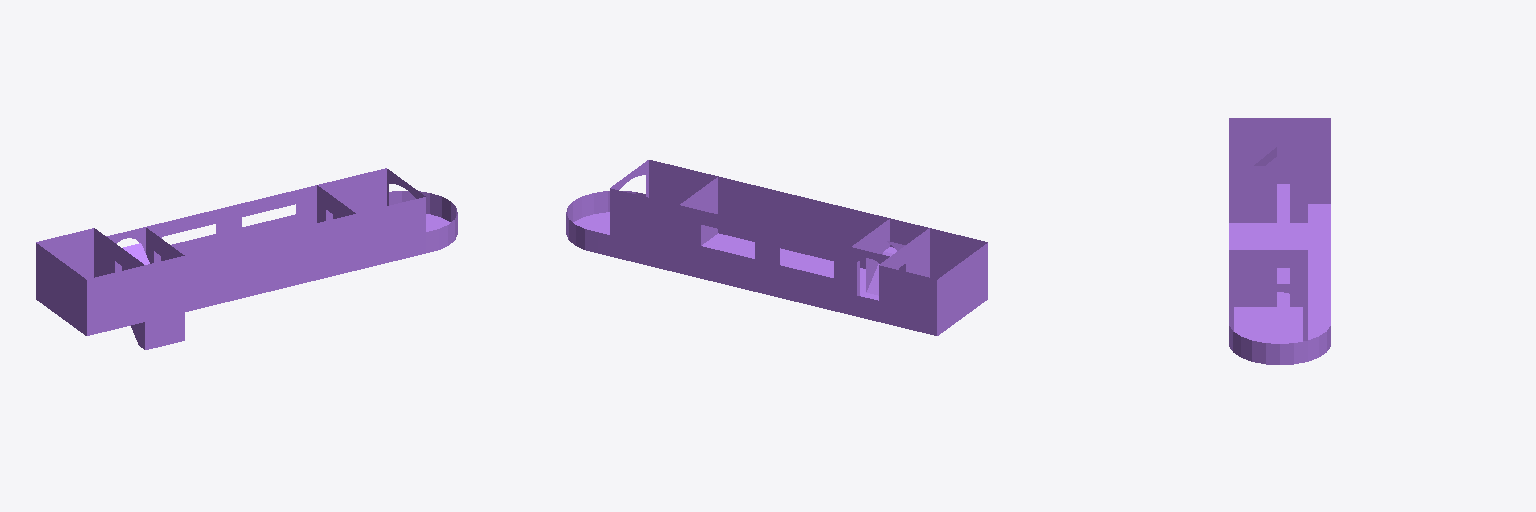
Rendered from vvt2.obj.
3 renders of one model, left to right at view 1: azimuth 30°, elevation 25°; view 2: azimuth 150°, elevation 25°; view 3: azimuth 270°, elevation 25°, orthographic.
Visible parts, largest first — view 1: SketchUp_ID201.001; view 2: SketchUp_ID201.001; view 3: SketchUp_ID201.001.
Part boxes in pixels (x1,y1,x2,y2): SketchUp_ID201.001: (36,168,457,349); SketchUp_ID201.001: (566,160,987,335); SketchUp_ID201.001: (1229,118,1330,364).
Bounding box in the file's own units: 28.71 × 6 × 6.49.